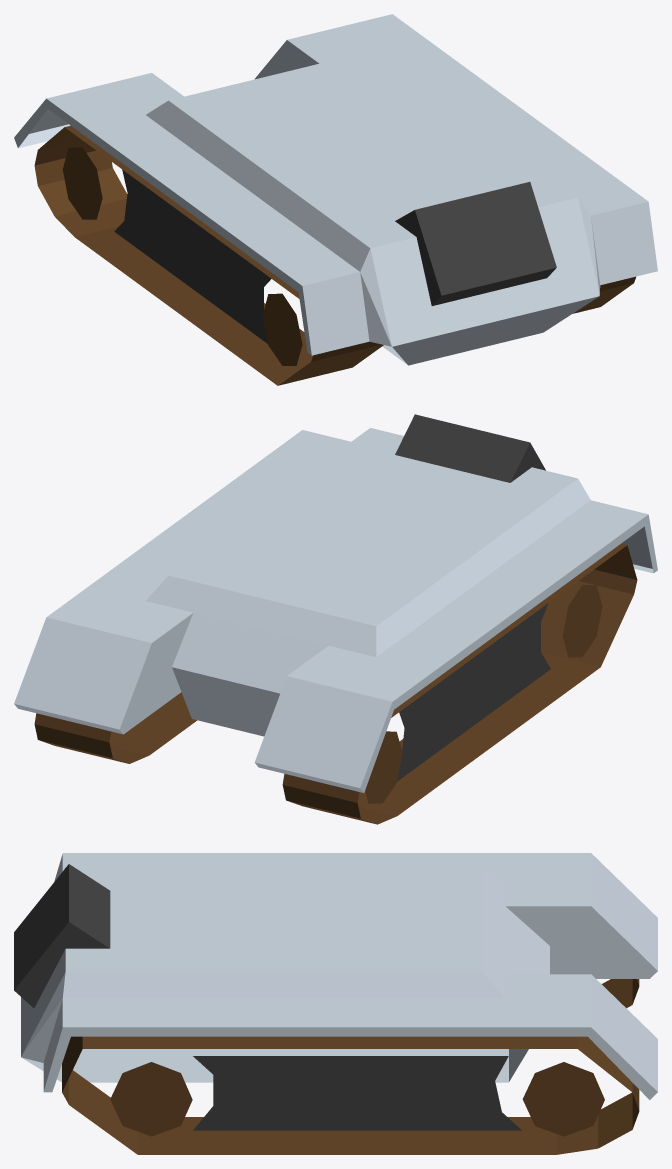
Rendered from Tank.FBX.
3 views of the same model, one above another, from view 1: azimuth 30°, elevation 25°; view 2: azimuth 150°, elevation 25°; view 3: azimuth 270°, elevation 25° (orthographic). The views are drawn at different scales.
Visible parts, largest first — view 1: VIFS002, VIFS003, VIFS001; view 2: VIFS002, VIFS001, VIFS003; view 3: VIFS002, VIFS001, VIFS003.
Boxes of the visible parts, x1,y1,x2,y2 form: VIFS002: (14, 14, 657, 365); VIFS003: (114, 169, 556, 343); VIFS001: (34, 125, 635, 385); VIFS002: (14, 428, 657, 792); VIFS001: (34, 543, 637, 824); VIFS003: (395, 414, 550, 781); VIFS002: (21, 853, 657, 1099); VIFS001: (62, 979, 639, 1154); VIFS003: (14, 864, 521, 1130).
Bounding box in the file's own units: 1.2 × 0.58 × 1.87.
